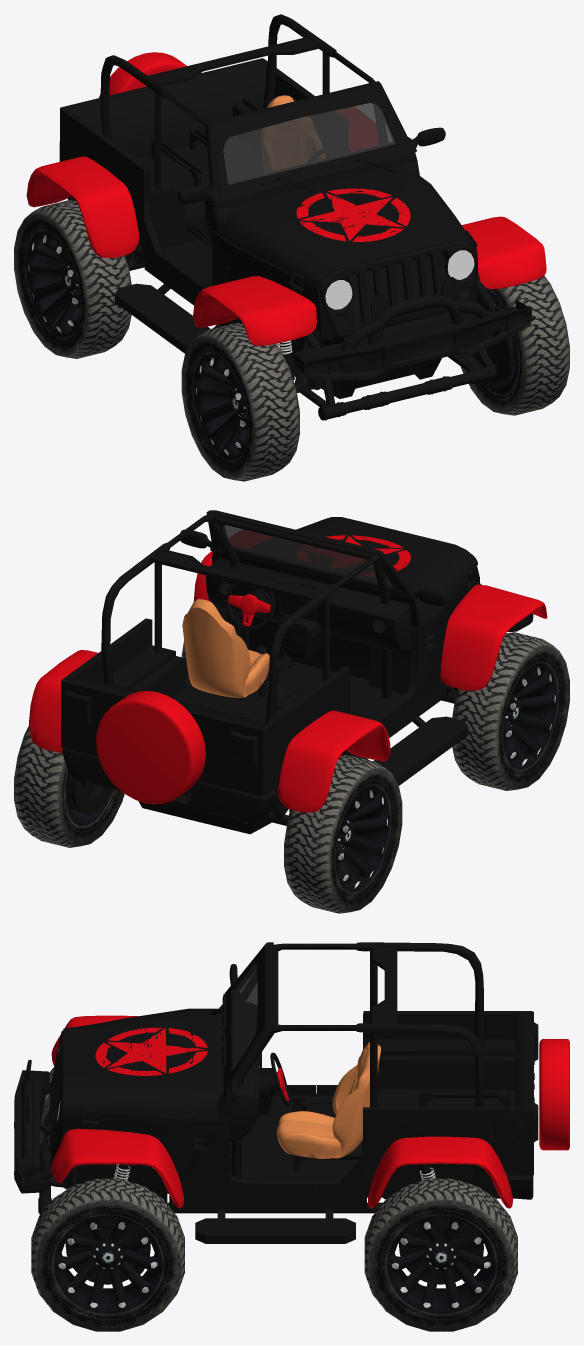
File: Jeep.fbx
The picture shows the model from 3 angles, top to bottom: view 1: azimuth 30°, elevation 25°; view 2: azimuth 150°, elevation 25°; view 3: azimuth 270°, elevation 25°; orthographic projection.
Parts seen in each view (by area): view 1: Cylinder.005, wheel Low.003, wheel Low.001, wheel Low.002; view 2: Cylinder.005, wheel Low.001, wheel Low.003, wheel Low, Cylinder.001; view 3: Cylinder.005, wheel Low.002, wheel Low, Cylinder.001.
Boxes of the visible parts, left/top/right/bottom form: Cylinder.005: left=26, top=14, right=546, bottom=420; wheel Low.003: left=181, top=322, right=299, bottom=481; wheel Low.001: left=14, top=200, right=131, bottom=358; wheel Low.002: left=459, top=275, right=569, bottom=415; Cylinder.005: left=29, top=510, right=547, bottom=834; wheel Low.001: left=284, top=755, right=402, bottom=913; wheel Low.003: left=452, top=632, right=569, bottom=790; wheel Low: left=14, top=726, right=124, bottom=847; Cylinder.001: left=225, top=574, right=275, bottom=630; Cylinder.005: left=14, top=942, right=569, bottom=1284; wheel Low.002: left=31, top=1178, right=184, bottom=1331; wheel Low: left=364, top=1178, right=517, bottom=1331; Cylinder.001: left=270, top=1052, right=289, bottom=1106.
Size of the model in its own units: 237 by 199 by 363.
